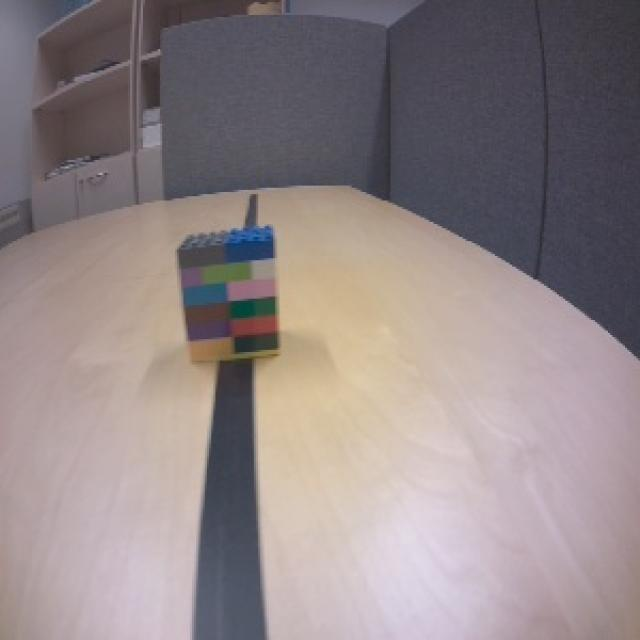obstacle: (172, 220, 284, 364)
